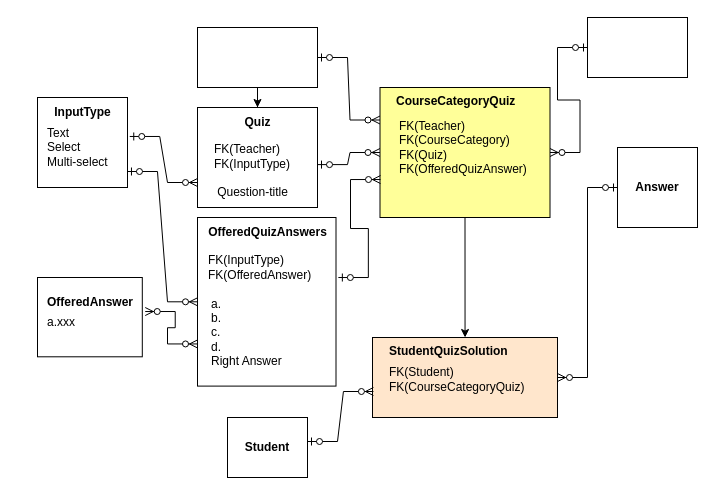
Some shapes in this 715 by 495 pixel diagram are drawn without their labels. Each missing label, with the box of its shape:
CourseCateory: (586, 16, 688, 78)
Teacher: (196, 26, 318, 88)
